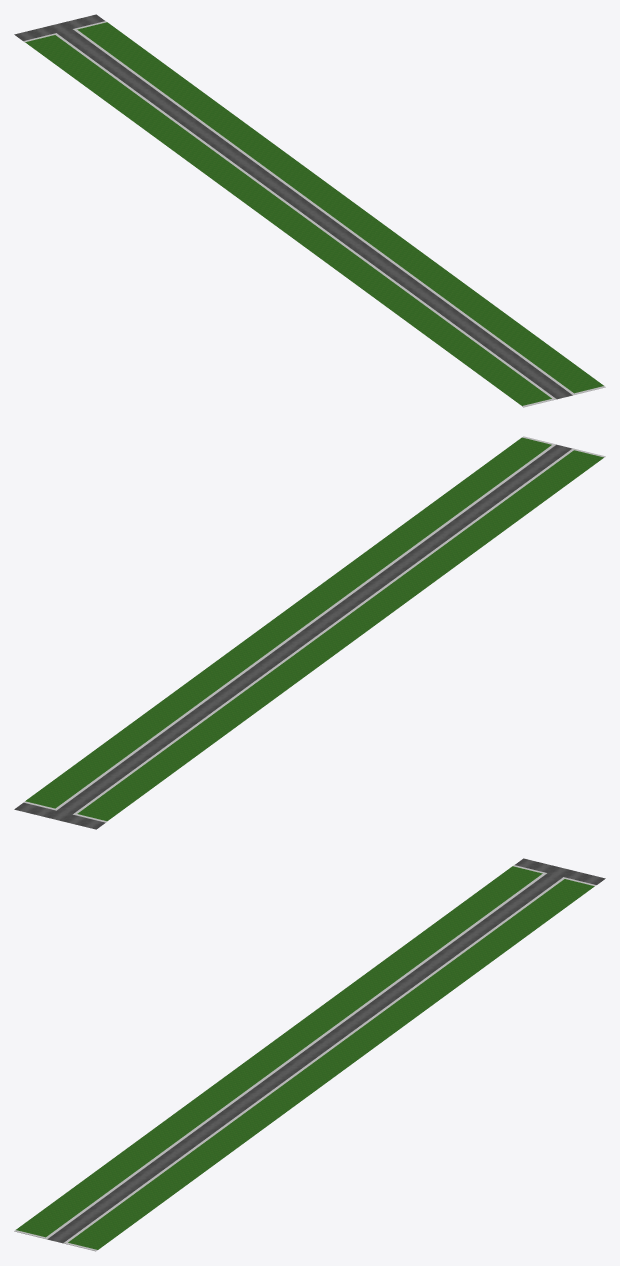
The model's file is Floor_01.FBX.
3 views of the same model, one above another, from view 1: azimuth 30°, elevation 25°; view 2: azimuth 150°, elevation 25°; view 3: azimuth 330°, elevation 25° (orthographic).
Visible parts, largest first — view 1: patch_01; view 2: patch_01; view 3: patch_01.
Part boxes in pixels (<box>): patch_01: <box>14,14,605,407</box>; patch_01: <box>14,436,605,829</box>; patch_01: <box>14,858,605,1251</box>.
Size of the model in its own units: 2800 by 9.56 by 29979.
